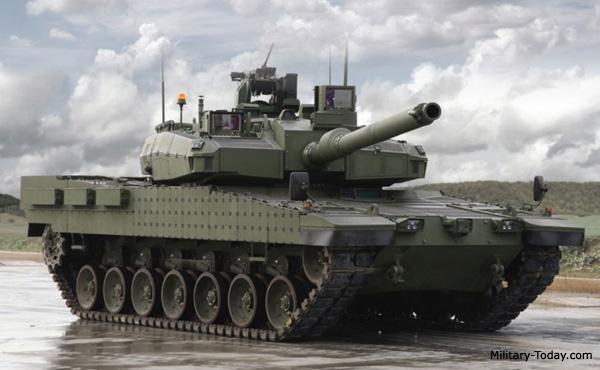tank: (17, 62, 588, 348)
